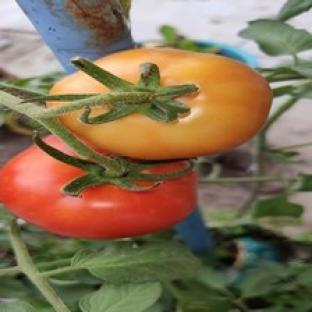Tomato: (60, 48, 271, 158), (0, 145, 196, 239)
